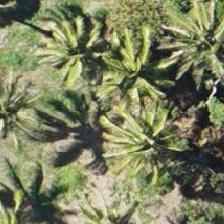coconut_tree: (113, 97, 203, 187), (83, 35, 173, 125), (24, 0, 114, 87), (145, 11, 223, 101), (0, 57, 64, 147)
